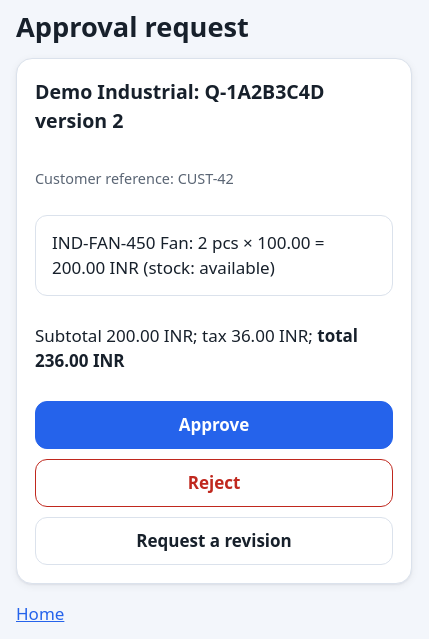
Test case: ApproveLinkPage › shows the exact version and decides with one click after sign-in
Expected: the text "total 236.00 INR" is shown, [35, 324, 358, 372]
Click the button "Approve" at (214, 424), box [35, 400, 393, 448]
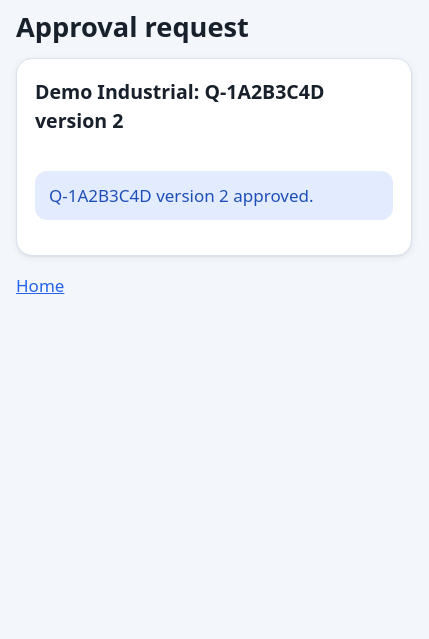
Result: the text "Q-1A2B3C4D version 2 approved." is shown at [35, 171, 393, 220]
